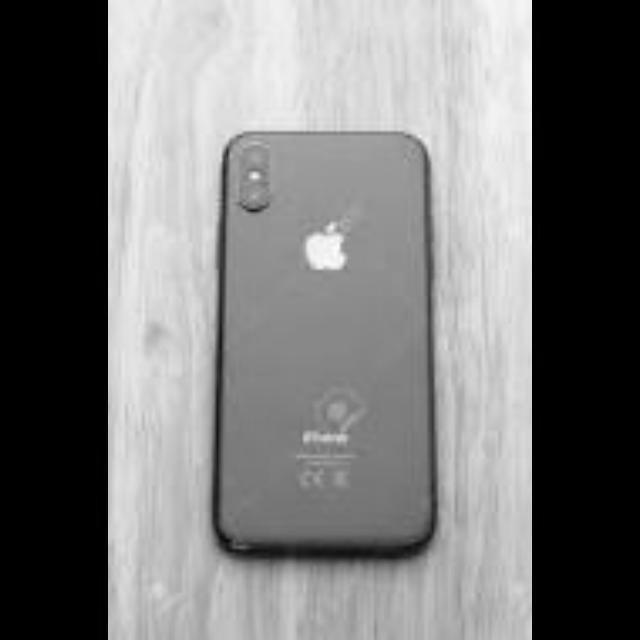fake: (210, 129, 436, 554)
